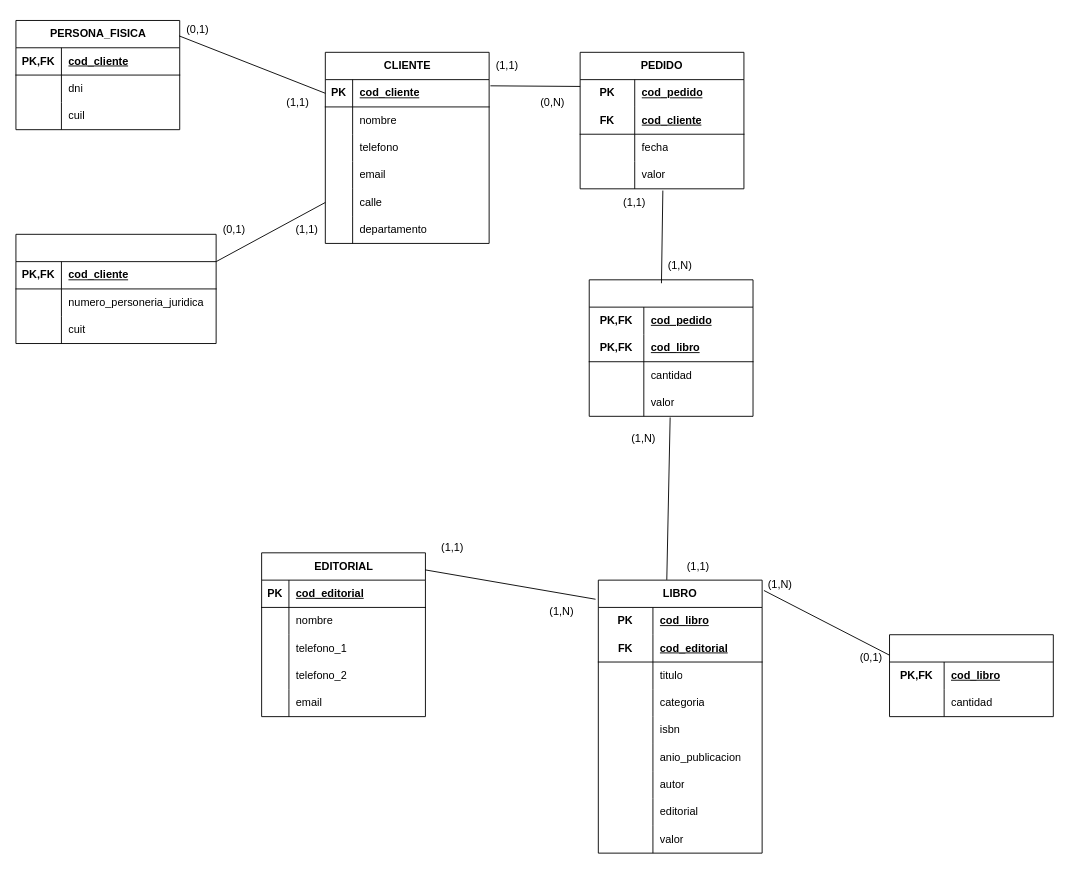
The diagram is 1069 pixels wide and 869 high, and some of its shapes have lost their labels. The box of each missing label's shape, as (x1, y1, x2, y2) in pixels:
INVENTARIO: (889, 634, 1053, 717)
ITEMS: (588, 279, 753, 416)
PERSONA_JURIDICA: (15, 233, 216, 344)
